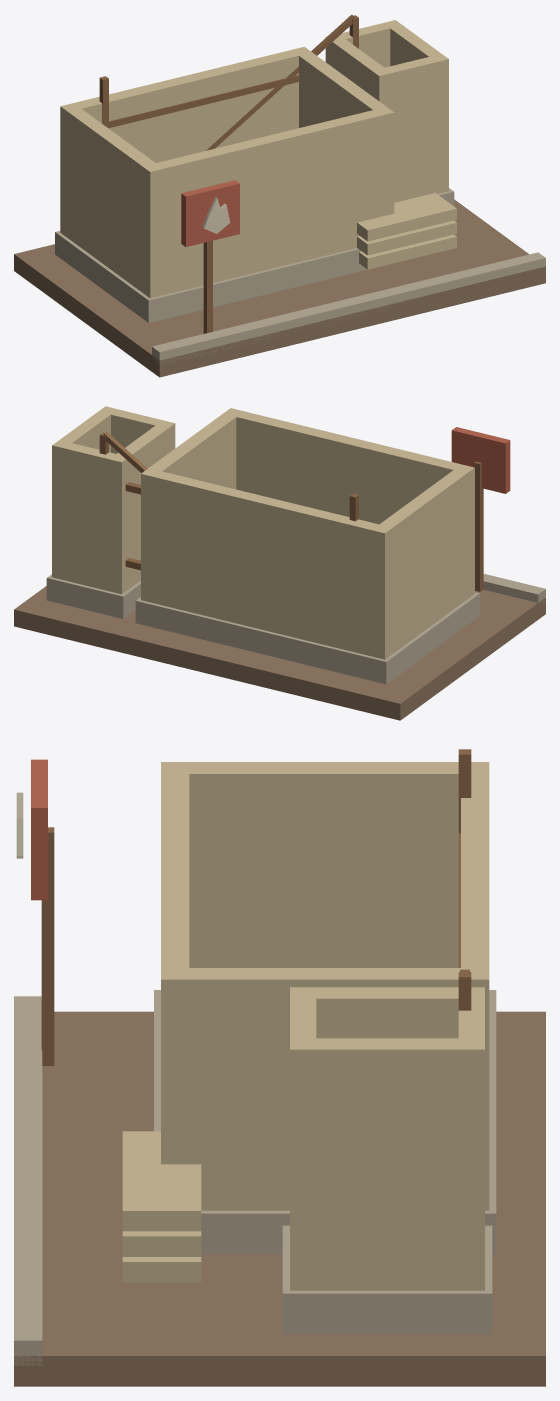
File: fire-station-sunrise-half-built.glb
3 renders of one model, top to bottom at view 1: azimuth 30°, elevation 25°; view 2: azimuth 150°, elevation 25°; view 3: azimuth 270°, elevation 25°, orthographic. The views are drawn at different scales.
Parts seen in each view (by area): view 1: fire-station; view 2: fire-station; view 3: fire-station.
Boxes of the visible parts, x1,y1,x2,y2 form: fire-station: (14,14,545,377); fire-station: (14,406,545,720); fire-station: (14,749,545,1386).
Size of the model in its own units: 2.88 by 1.38 by 1.88.
